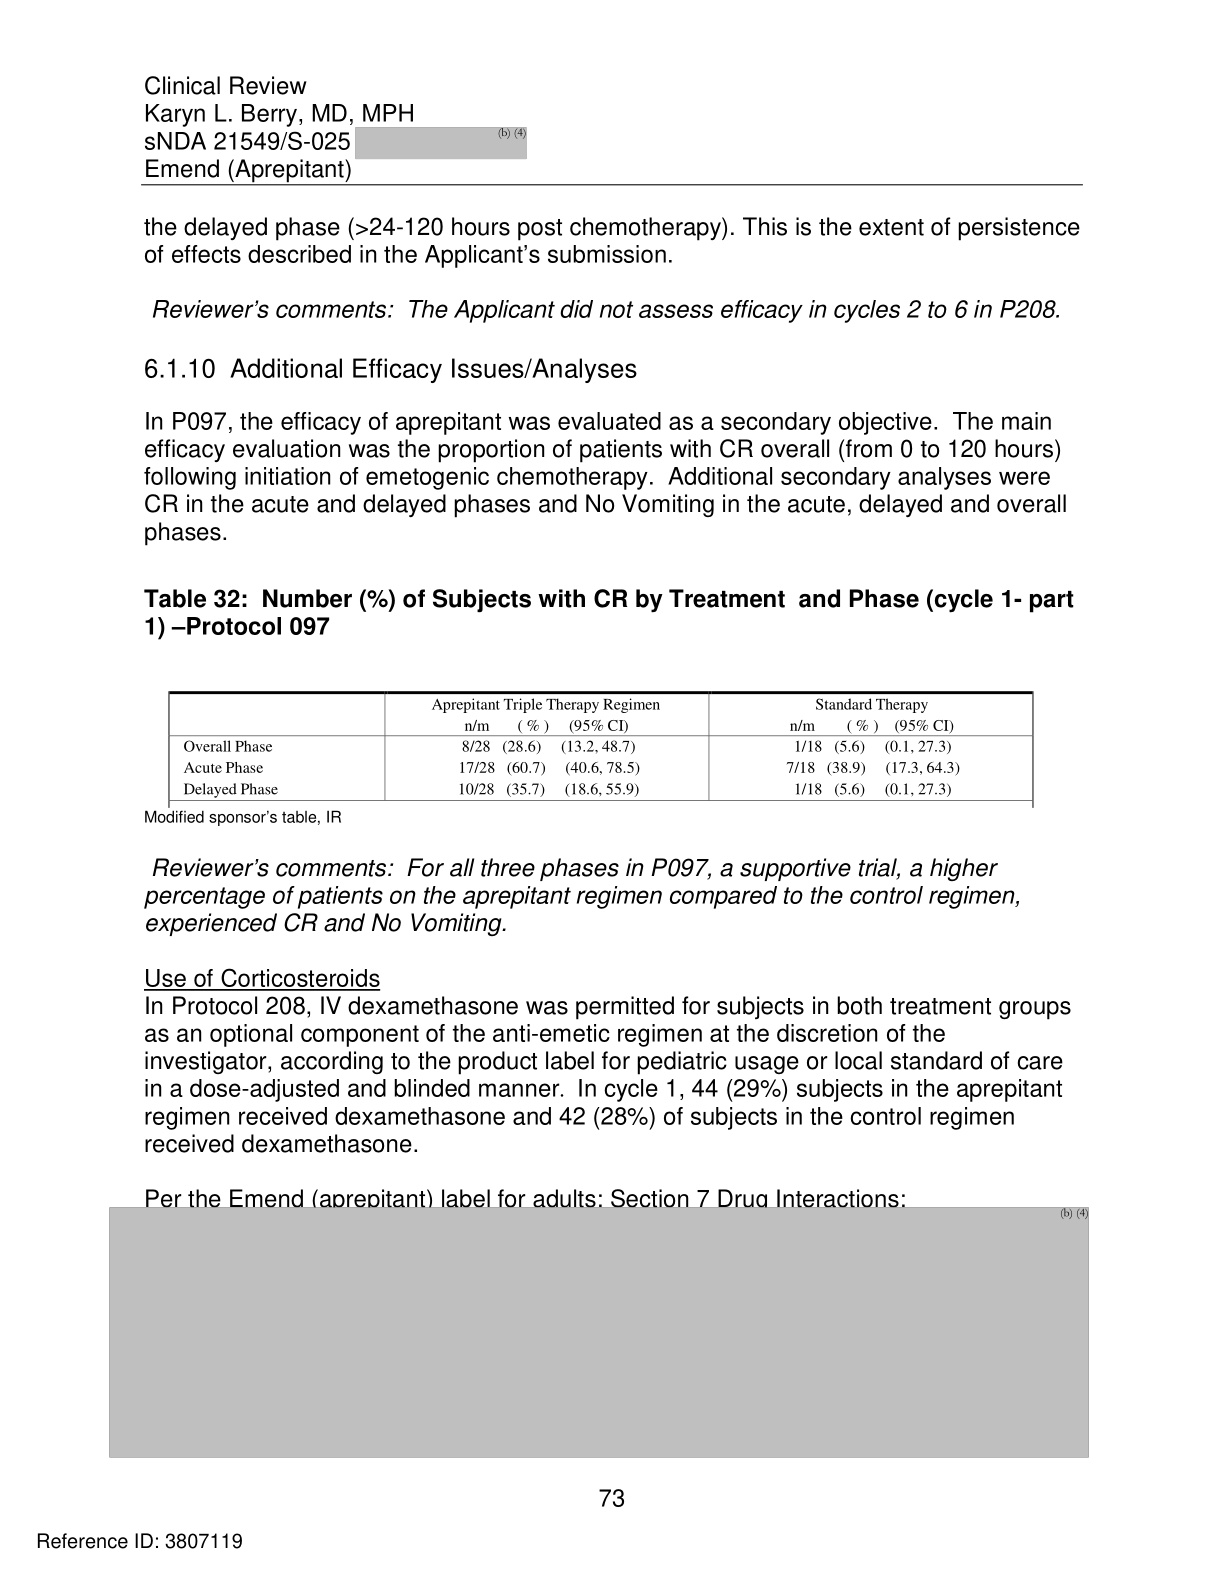partial_lined_merged_cells: (167, 690, 1035, 804)
